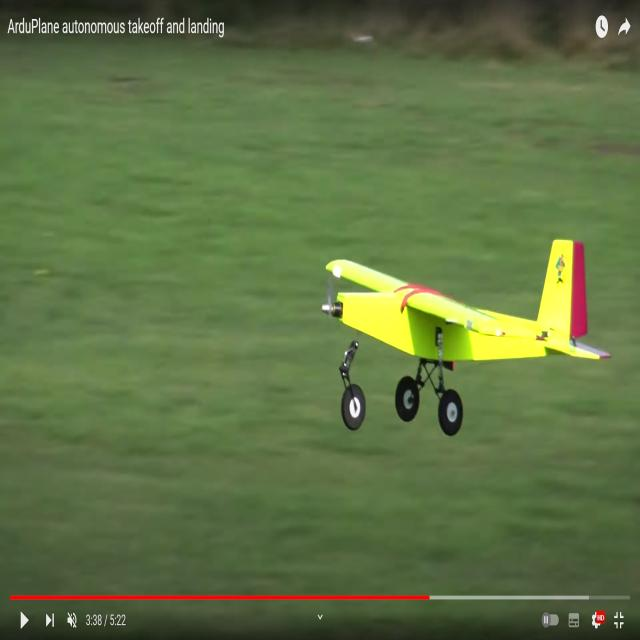iha: (319, 242, 621, 434)
